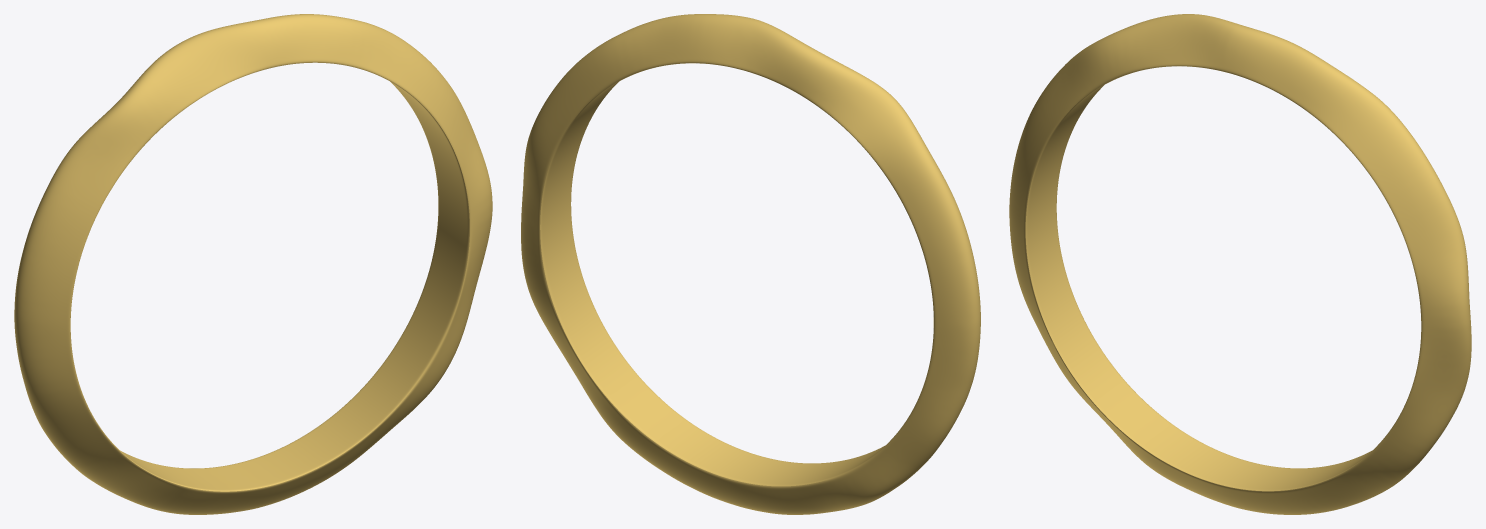
Rendered from path.glb.
3 renders of one model, left to right at view 1: azimuth 30°, elevation 25°; view 2: azimuth 150°, elevation 25°; view 3: azimuth 330°, elevation 25°, orthographic.
Parts seen in each view (by area): view 1: PATH Mockup; view 2: PATH Mockup; view 3: PATH Mockup.
Part boxes in pixels (<box>): PATH Mockup: <box>14,14,492,514</box>; PATH Mockup: <box>521,14,980,514</box>; PATH Mockup: <box>1009,14,1471,514</box>.
Size of the model in its own units: 19.84 by 19.84 by 2.37.
